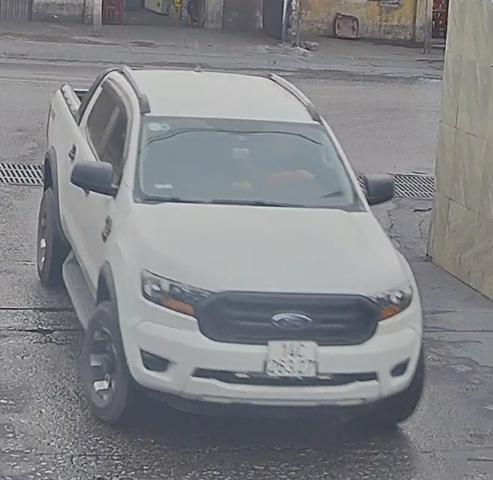vehicle plate: (260, 333, 318, 381)
